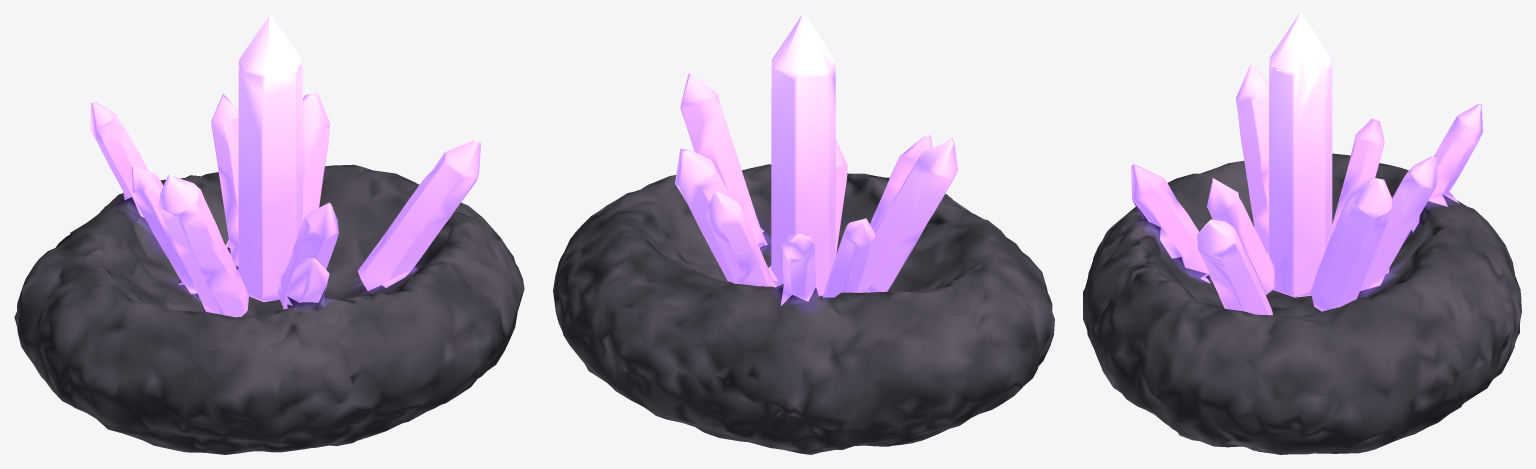
Rendered from crystals.glb.
3 renders of one model, left to right at view 1: azimuth 30°, elevation 25°; view 2: azimuth 150°, elevation 25°; view 3: azimuth 270°, elevation 25°, orthographic.
Visible parts, largest first — view 1: dog; view 2: dog; view 3: dog.
Boxes of the visible parts, bbox=[...] form: dog: bbox=[14, 14, 524, 454]; dog: bbox=[553, 14, 1054, 454]; dog: bbox=[1083, 14, 1521, 454].
Size of the model in its own units: 1.99 by 1.69 by 1.69.
